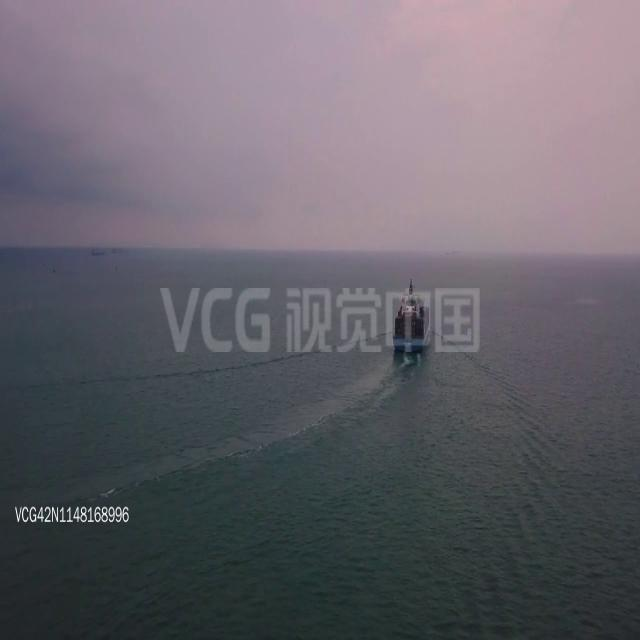cargoship: (391, 278, 431, 354)
